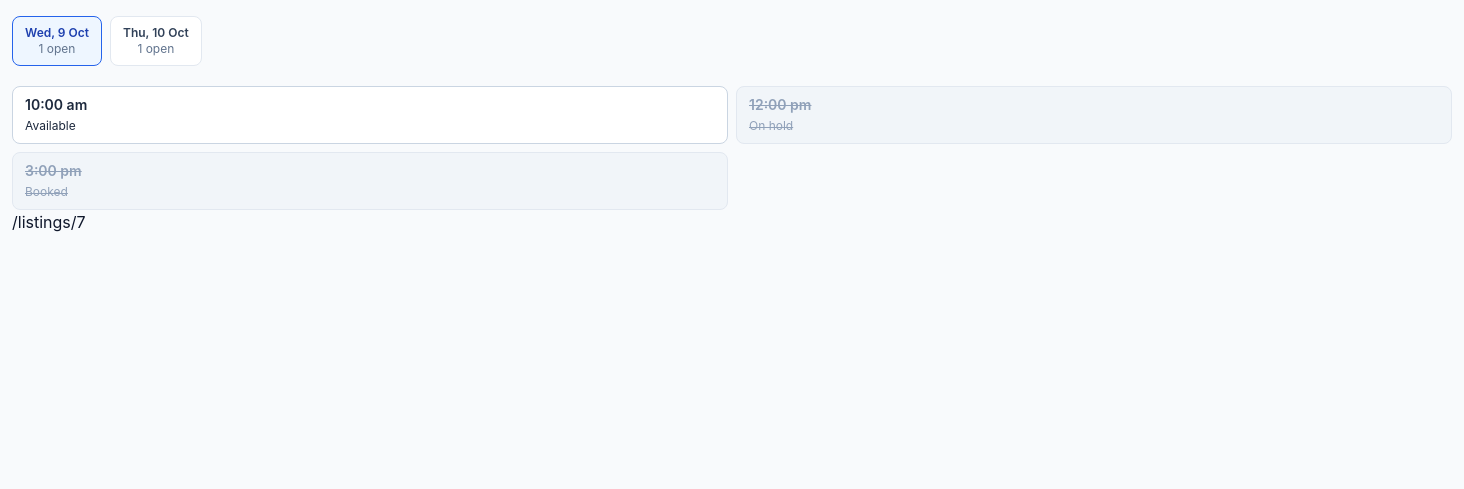
Test case: <SlotPicker> › asks for a fresh hold if the server says it lapsed
Click the button with aria-label "10:00 am, available" at (56, 104), box top-left (12, 86), bottom-right (728, 144)
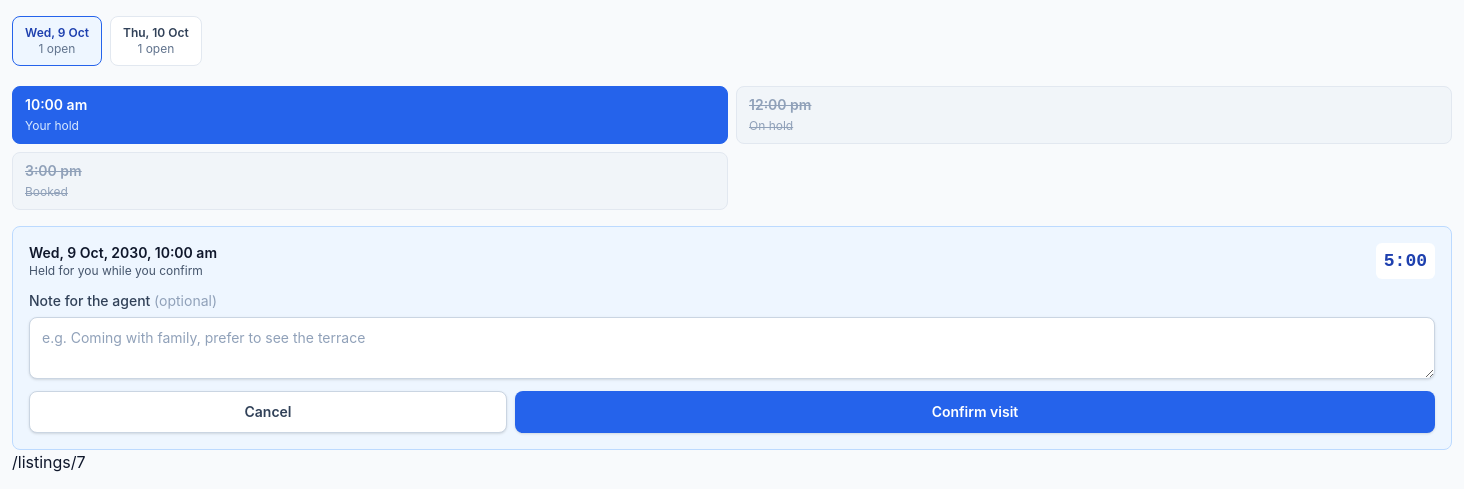
Click the button "Confirm visit" at (975, 412), box top-left (515, 391), bottom-right (1435, 433)
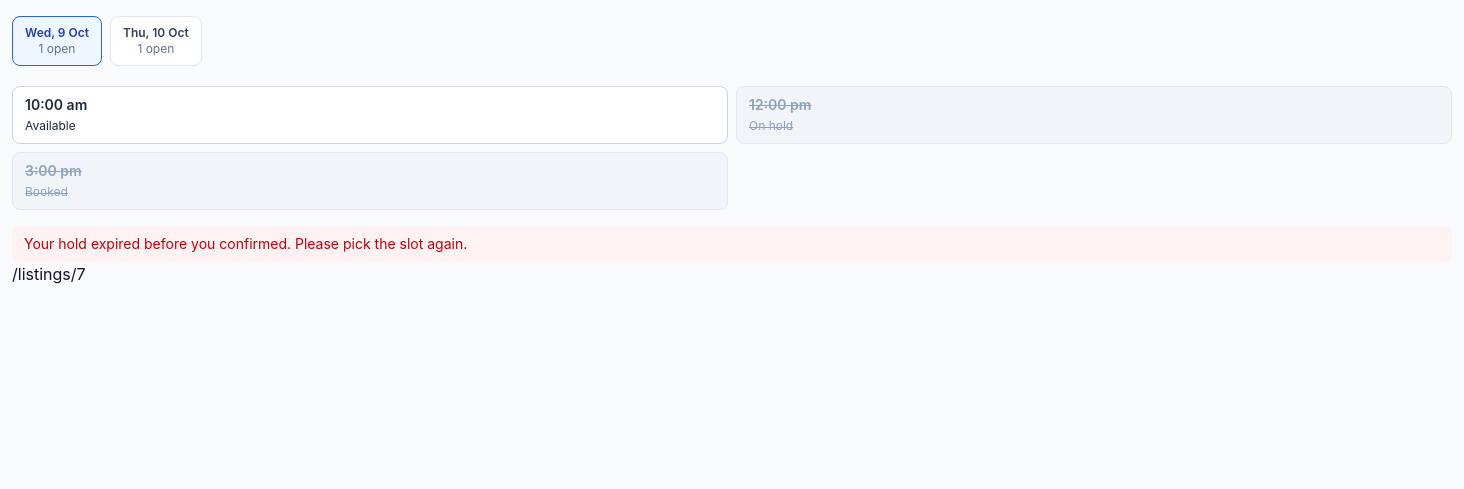
expect the message shows "Your hold expired before you confirmed": met, box top-left (24, 235), bottom-right (467, 252)
